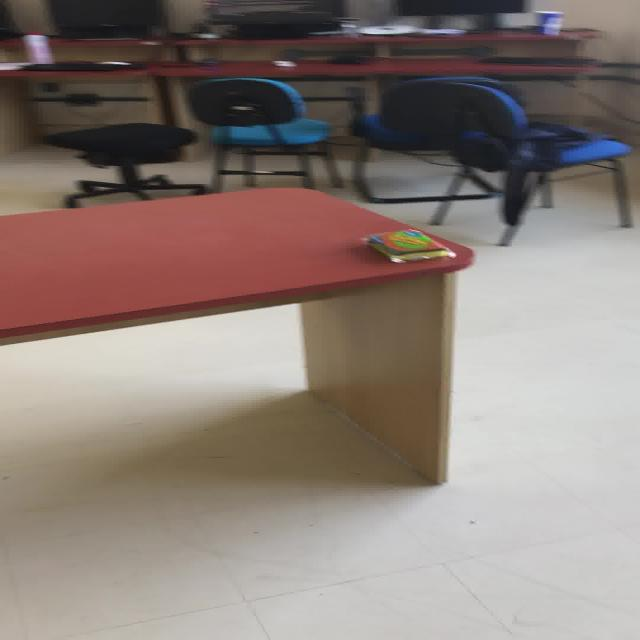sponge: (360, 228, 455, 263)
